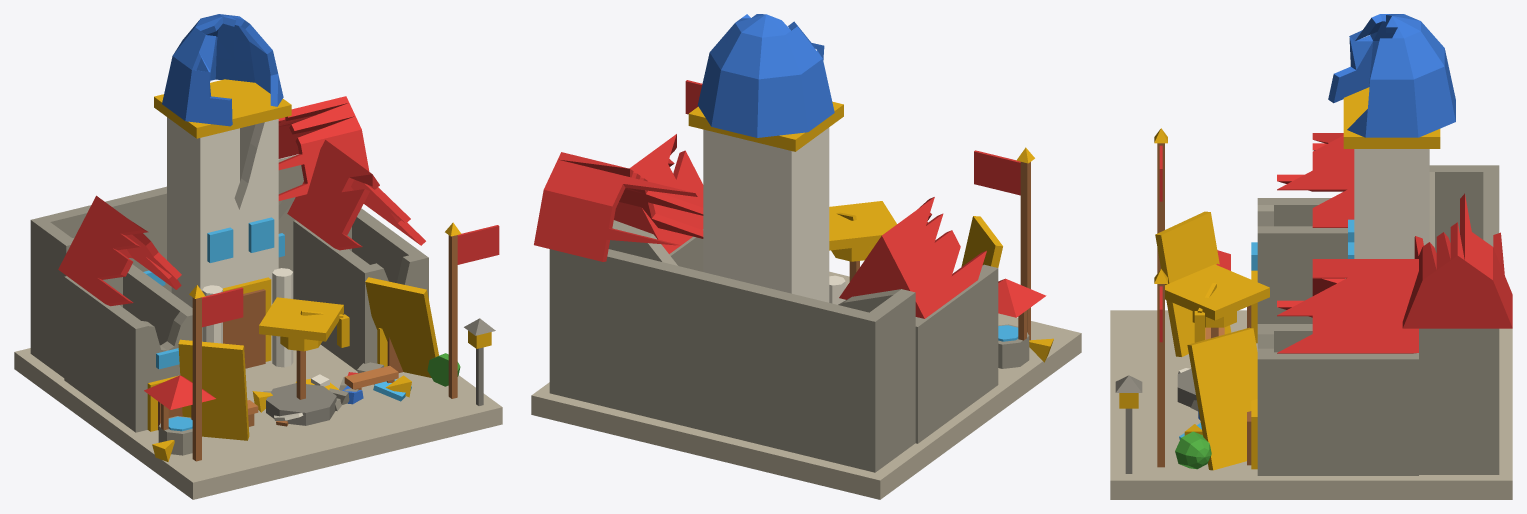
Rendered from university_t3_v3_dmg1.glb.
3 views of the same model, side by side, from view 1: azimuth 30°, elevation 25°; view 2: azimuth 150°, elevation 25°; view 3: azimuth 270°, elevation 25° (orthographic). The views are drawn at different scales.
Parts seen in each view (by area): view 1: university_t3_v3_dmg1; view 2: university_t3_v3_dmg1; view 3: university_t3_v3_dmg1.
Boxes of the visible parts, x1,y1,x2,y2 form: university_t3_v3_dmg1: (14, 14, 502, 499); university_t3_v3_dmg1: (531, 14, 1081, 499); university_t3_v3_dmg1: (1110, 14, 1512, 499).
Bounding box in the file's own units: 0.8111 × 0.82 × 0.75.
1 material, 1 textured.
